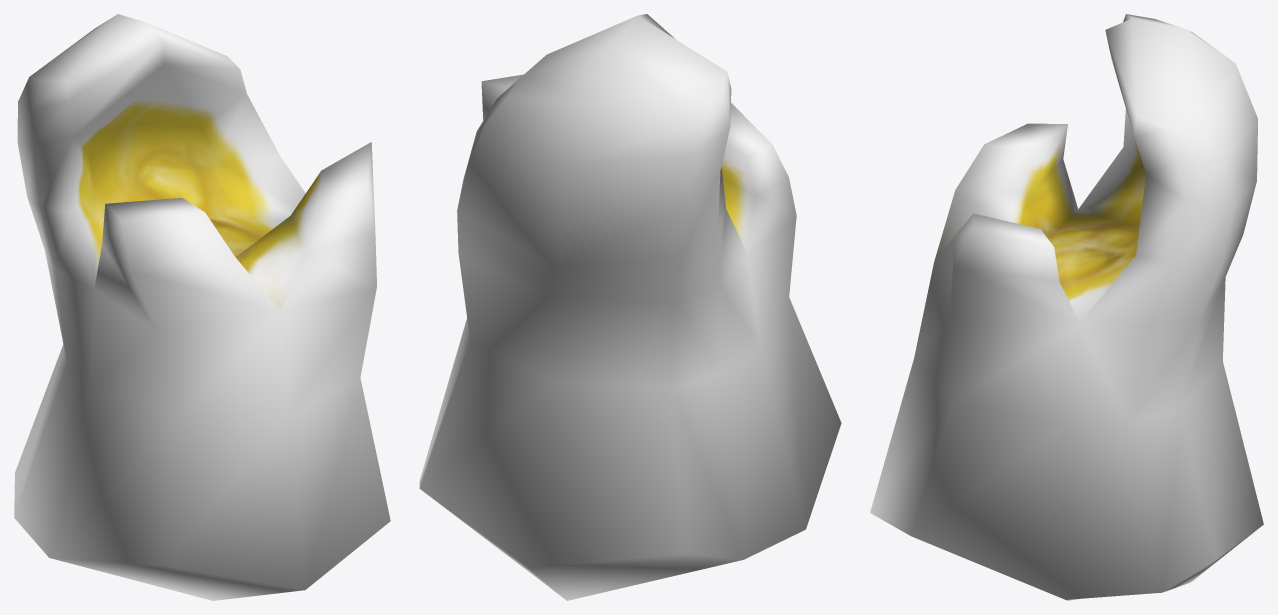
Rendered from asset_patlamis_misir_1.fbx.
3 views of the same model, side by side, from view 1: azimuth 30°, elevation 25°; view 2: azimuth 150°, elevation 25°; view 3: azimuth 270°, elevation 25° (orthographic). The views are drawn at different scales.
Visible parts, largest first — view 1: patlamis_misir_1; view 2: patlamis_misir_1; view 3: patlamis_misir_1.
Boxes of the visible parts, left/top/right/bottom form: patlamis_misir_1: left=14, top=14, right=390, bottom=600; patlamis_misir_1: left=419, top=14, right=841, bottom=600; patlamis_misir_1: left=870, top=14, right=1263, bottom=600.
Size of the model in its own units: 51.3 by 84.89 by 53.63.
1 material, 1 textured.
